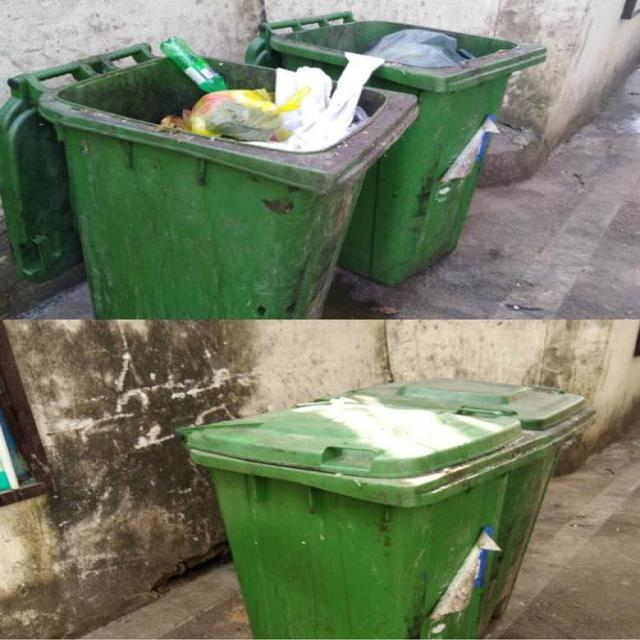garbage_bin: (189, 381, 598, 639)
overflow: (0, 39, 416, 317), (243, 11, 545, 282)
